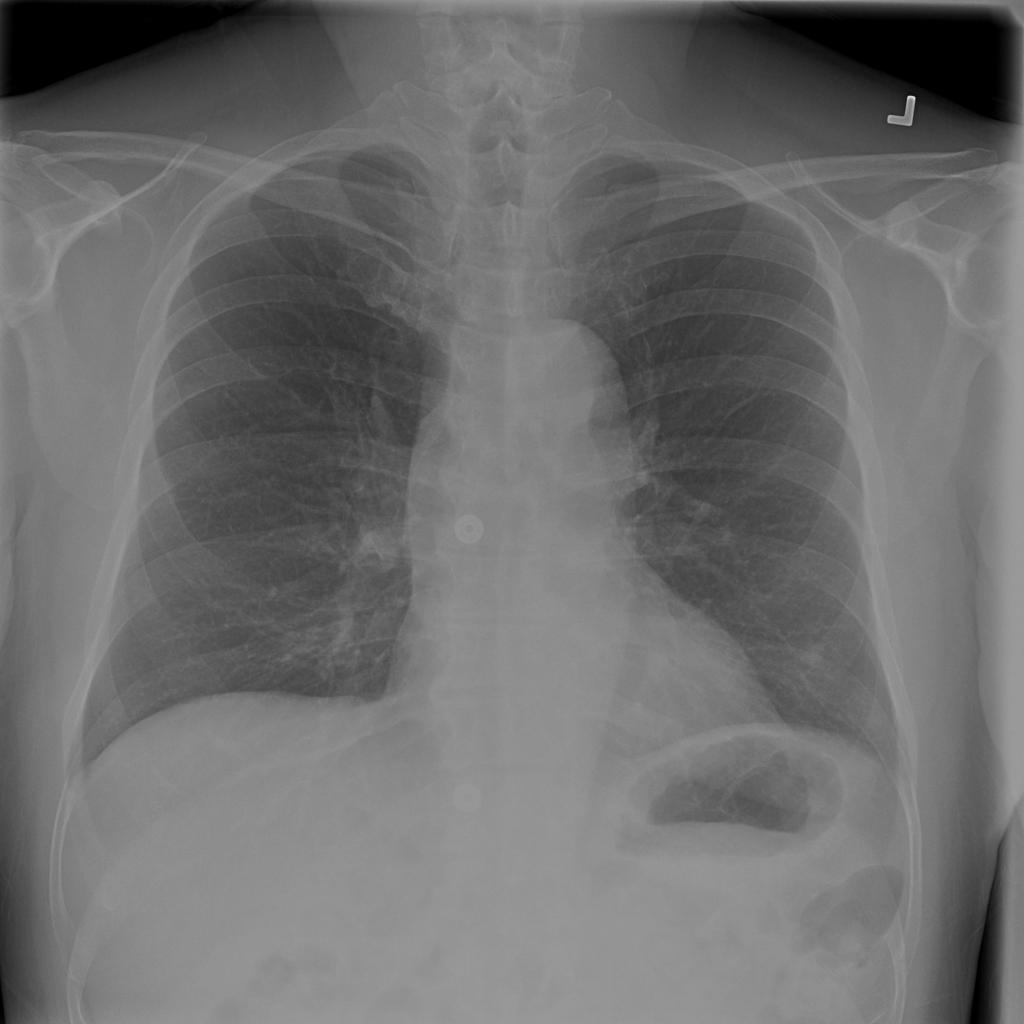nodule: (786, 629, 839, 677)
